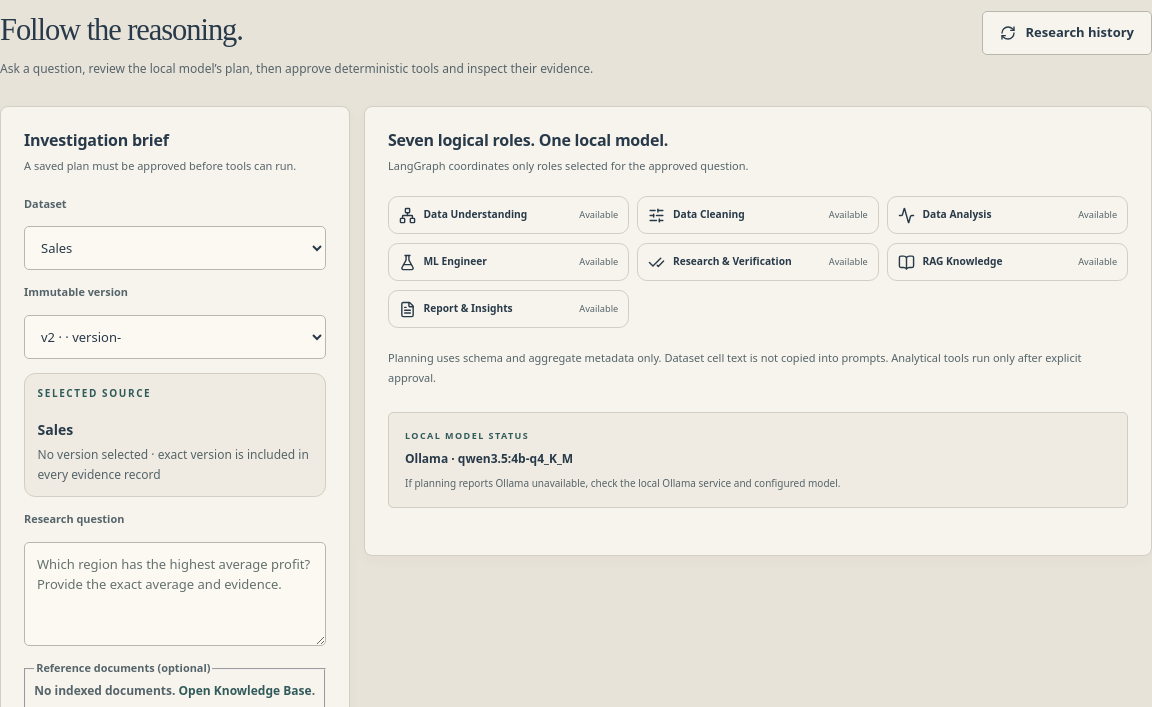
Test: persisted research comparisons › does not invent a comparison for a historical result without one
The width and height of the screenshot is (1152, 707).
Click the button "Research history" at [1067, 32], box left=982, top=10, right=1151, bottom=54
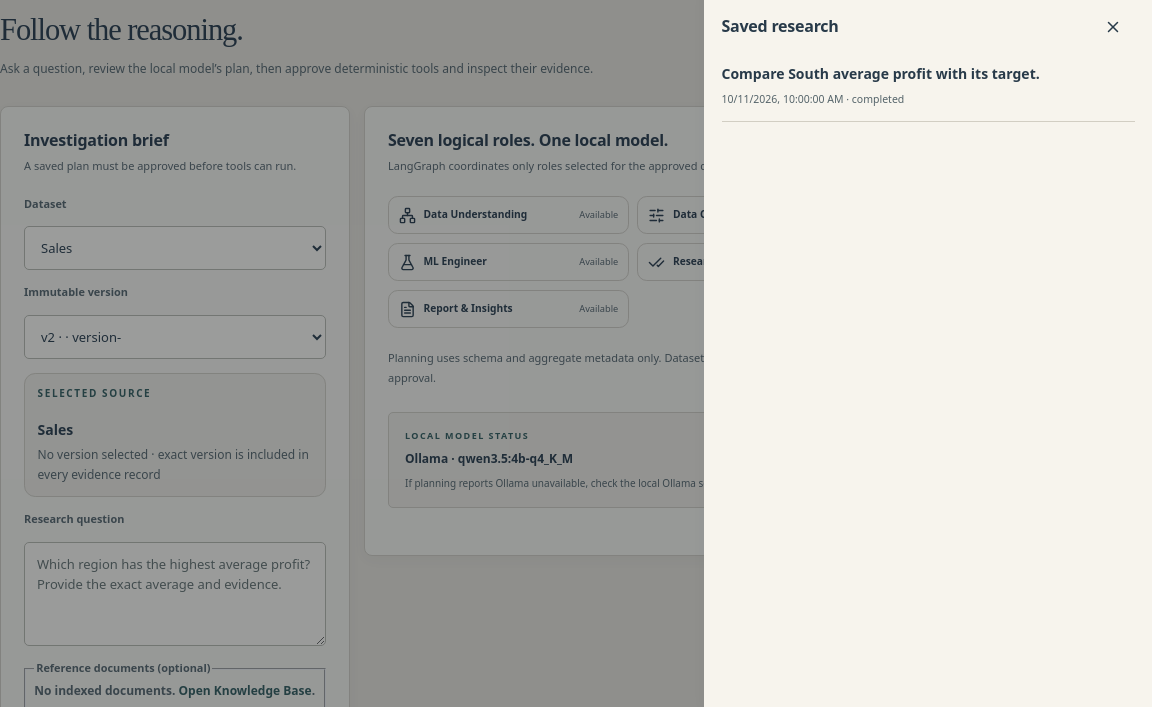
Click the button "Compare South average profit" at [928, 86], box left=722, top=48, right=1134, bottom=122
(page scrolled)
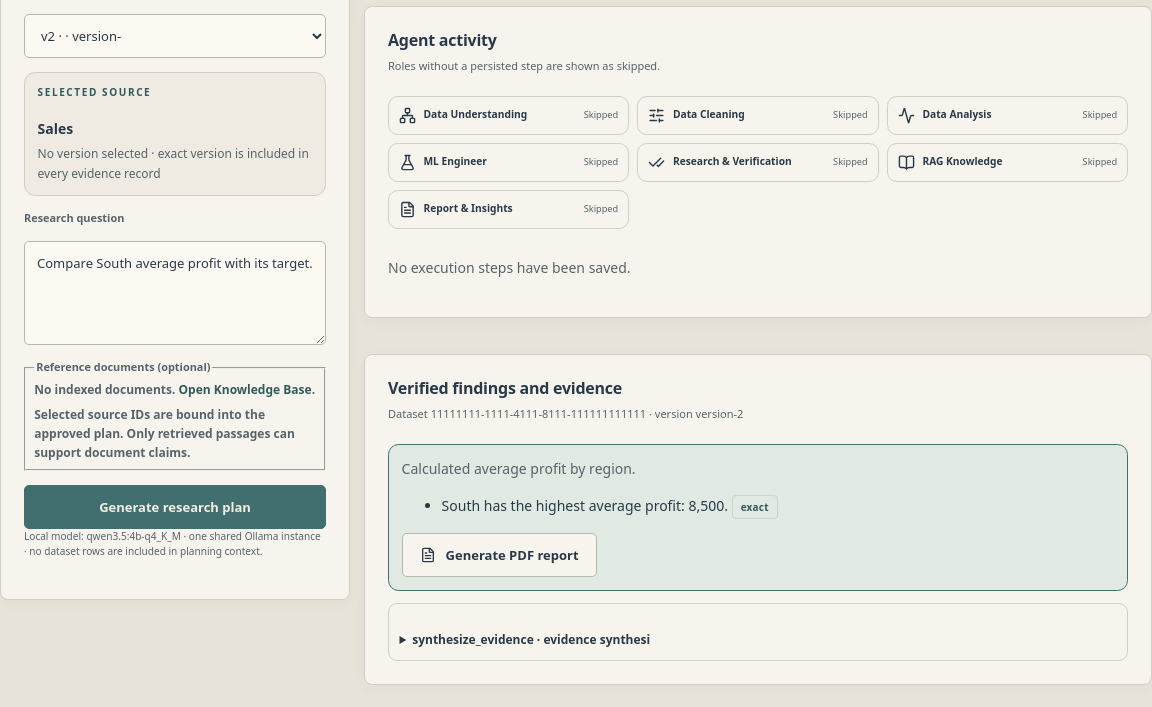
Expected: the button "Generate PDF report" is shown, left=402, top=533, right=597, bottom=577
Expected: the text "Calculated average profit by region." is shown, left=402, top=459, right=636, bottom=478
